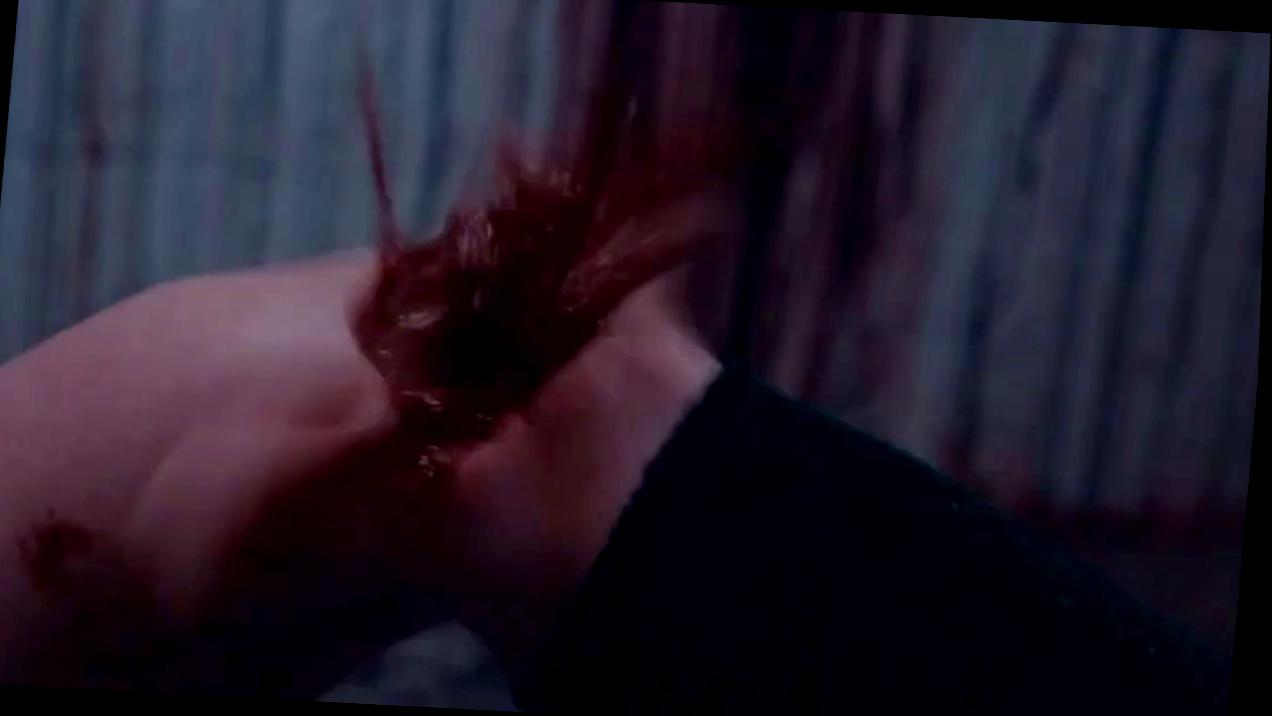Fire: (202, 0, 933, 699), (949, 389, 1250, 551), (0, 509, 224, 694), (62, 0, 140, 308)
